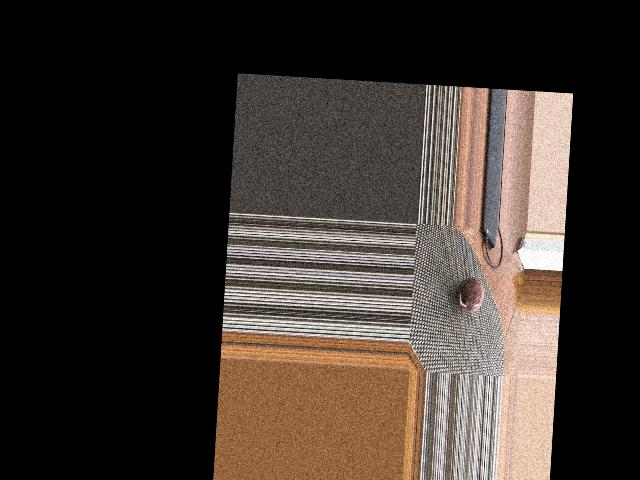beet: (456, 276, 484, 311)
